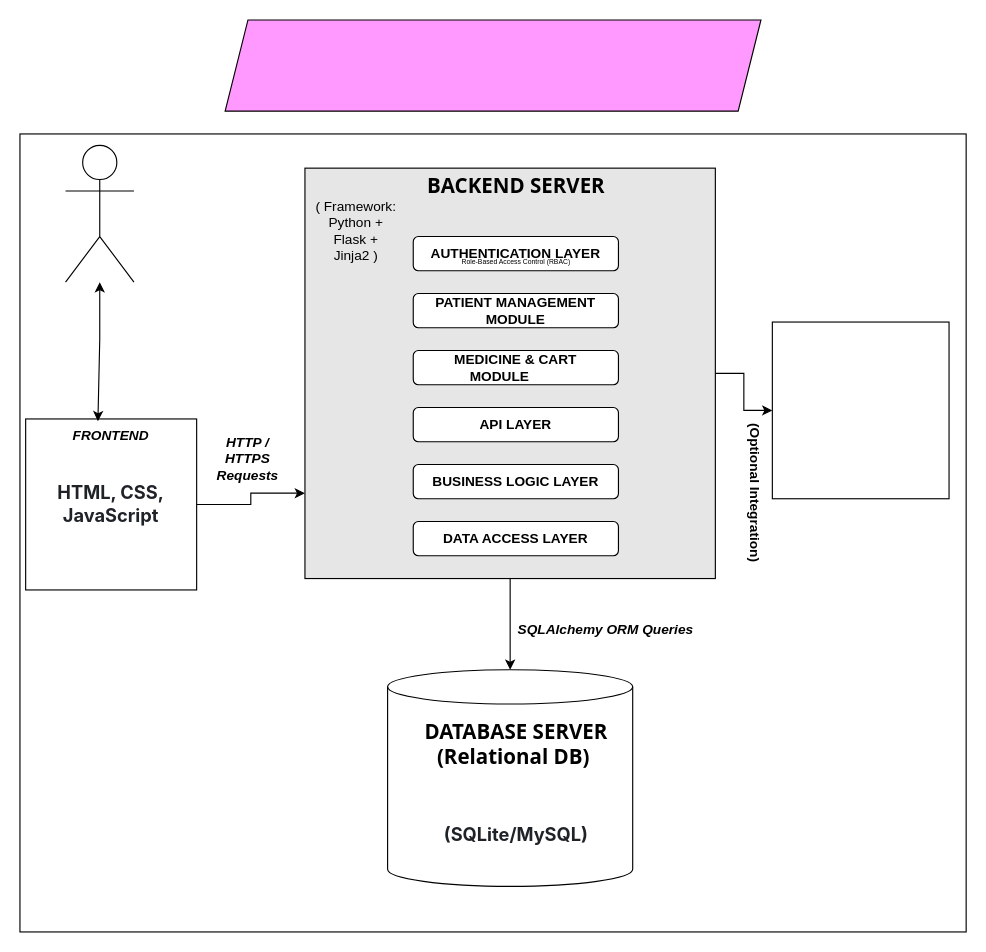
This 986x952 diagram has some shape labels left out. The centre of each missing label's shape, as x and y in pixels:
EXTERNAL SERVICES / SUPPORT COMPONENTS: point 860,410
LIFE – Local Information for Health Efficiency SOFTWARE ARCHITECTURE DIAGRAM: point 492,65
USER: point 99,213
